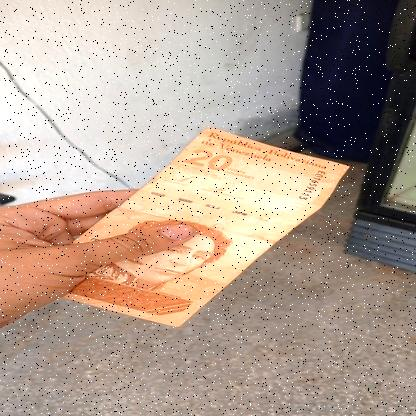twenty-front-vef: (61, 127, 351, 327)
